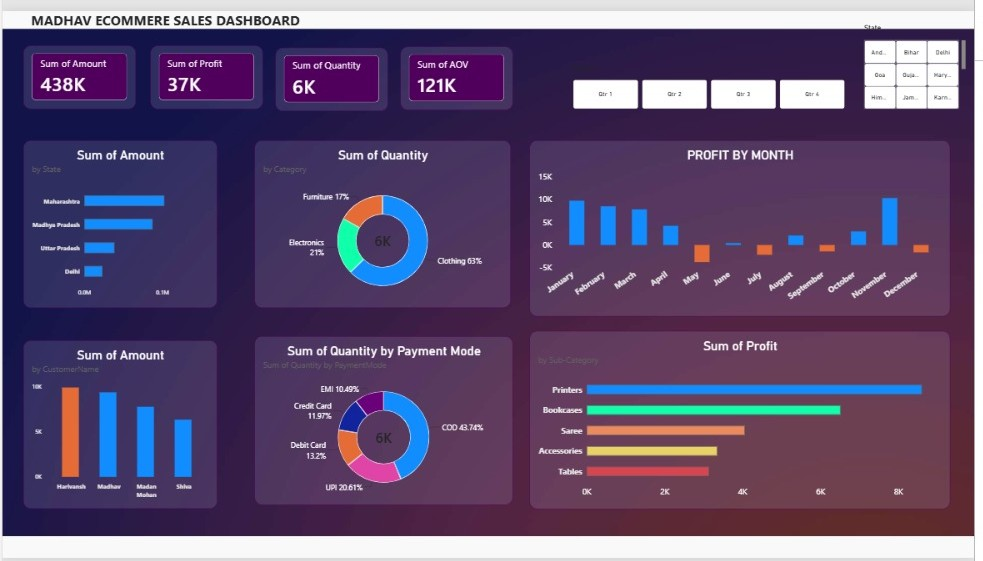

Layout of this report page (visuals, bound fields, positions):
{"tool":"powerbi","page":{"name":"Page 1","canvas":[1920,1080],"ordinal":0},"visuals":[{"type":"textbox","box":[10.3,0,623.7,47.3],"z":0},{"type":"columnChart","title":"PROFIT BY MONTH","fields":{"Category":["Orders.Order Date.Variation.Date Hierarchy.Month"],"Y":["Sum(Details.Profit)"]},"box":[1041.5,255.2,831.6,347.9],"z":1000},{"type":"barChart","fields":{"Category":["Details.Sub-Category"],"Y":["Sum(Details.Profit)"]},"box":[1041.5,631.9,831.6,352],"z":2000},{"type":"donutChart","fields":{"Category":["Details.Category"],"Y":["Sum(Details.Quantity)"]},"box":[498.1,255.2,506.3,331.4],"z":3000},{"type":"donutChart","title":"Sum of Quantity by Payment Mode","fields":{"Category":["Details.PaymentMode"],"Y":["Sum(Details.Quantity)"]},"box":[498.1,642.2,510.5,333.4],"z":4000},{"type":"cardVisual","fields":{"Data":["Sum(Details.Amount)"]},"box":[41.2,67.9,222.3,125.6],"z":5000},{"type":"cardVisual","fields":{"Data":["Sum(Details.Profit)"]},"box":[292.3,67.9,222.3,125.6],"z":6000},{"type":"cardVisual","fields":{"Data":["Sum(Details.Quantity)"]},"box":[539.3,72,222.3,125.6],"z":7000},{"type":"cardVisual","fields":{"Data":["Sum(Details.AOV)"]},"box":[786.3,70,222.3,125.6],"z":8000},{"type":"barChart","fields":{"Category":["Orders.State"],"Y":["Sum(Details.Amount)"]},"box":[41.2,255.2,382.8,331.4],"z":9000},{"type":"columnChart","fields":{"Category":["Orders.CustomerName"],"Y":["Sum(Details.Amount)"]},"box":[41,650,383,333],"z":10000},{"type":"advancedSlicerVisual","fields":{"Values":["Orders.Order Date.Variation.Date Hierarchy.Quarter"]},"box":[1128,102.9,537.2,90.6],"z":11000},{"type":"advancedSlicerVisual","fields":{"Values":["Orders.State"]},"box":[1702.2,24.7,201.7,168.8],"z":11001}]}

Visuals, with their boxes in screenshot pixels (x1, y1, x2, y2), scaled from the page's 1920x1080 canvas onto the 983x561 screenshot:
textbox: locate(5, 0, 325, 25)
"PROFIT BY MONTH" columnChart: locate(533, 133, 959, 313)
barChart - Details.Sub-Category x Sum(Details.Profit): locate(533, 328, 959, 511)
donutChart - Details.Category x Sum(Details.Quantity): locate(255, 133, 514, 305)
"Sum of Quantity by Payment Mode" donutChart: locate(255, 334, 516, 507)
cardVisual - Sum(Details.Amount): locate(21, 35, 135, 101)
cardVisual - Sum(Details.Profit): locate(150, 35, 263, 101)
cardVisual - Sum(Details.Quantity): locate(276, 37, 390, 103)
cardVisual - Sum(Details.AOV): locate(403, 36, 516, 102)
barChart - Orders.State x Sum(Details.Amount): locate(21, 133, 217, 305)
columnChart - Orders.CustomerName x Sum(Details.Amount): locate(21, 338, 217, 511)
advancedSlicerVisual - Orders.Order Date.Variation.Date Hierarchy.Quarter: locate(578, 53, 853, 101)
advancedSlicerVisual - Orders.State: locate(871, 13, 975, 101)
